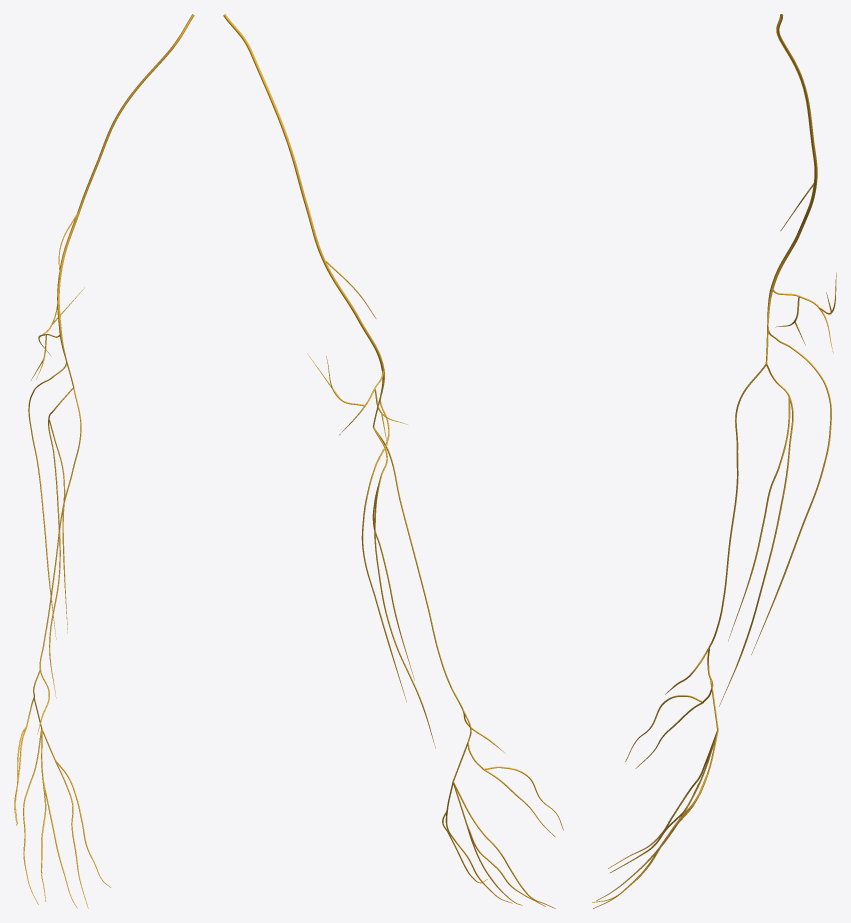
File: nervoso-radial-nerve-r.glb
3 views of the same model, side by side, from view 1: azimuth 30°, elevation 25°; view 2: azimuth 150°, elevation 25°; view 3: azimuth 270°, elevation 25° (orthographic). The views are drawn at different scales.
Parts seen in each view (by area): view 1: Dorsal digital branches of radial nerve.r, Radial nerve.r, Superficial branch of radial nerve.r, Deep branch of radial nerve.r, Posterior antebrachial cutaneous nerve.r; view 2: Dorsal digital branches of radial nerve.r, Radial nerve.r, Superficial branch of radial nerve.r; view 3: Dorsal digital branches of radial nerve.r, Radial nerve.r, Superficial branch of radial nerve.r, Deep branch of radial nerve.r, Posterior antebrachial cutaneous nerve.r, Posterior interosseous nerve of forearm.r.
Part boxes in pixels (x1,y1,x2,y2): Dorsal digital branches of radial nerve.r: (14, 726, 110, 908); Radial nerve.r: (57, 14, 194, 387); Superficial branch of radial nerve.r: (26, 387, 81, 734); Deep branch of radial nerve.r: (48, 387, 73, 698); Posterior antebrachial cutaneous nerve.r: (28, 360, 66, 639); Dorsal digital branches of radial nerve.r: (442, 766, 563, 908); Radial nerve.r: (223, 14, 384, 426); Superficial branch of radial nerve.r: (374, 427, 505, 781); Dorsal digital branches of radial nerve.r: (592, 695, 718, 908); Radial nerve.r: (765, 14, 817, 364); Superficial branch of radial nerve.r: (665, 364, 766, 730); Deep branch of radial nerve.r: (719, 364, 793, 706); Posterior antebrachial cutaneous nerve.r: (751, 327, 831, 654); Posterior interosseous nerve of forearm.r: (728, 397, 790, 641).
Size of the model in its own units: 0.2129 by 0.6779 by 0.1496.
